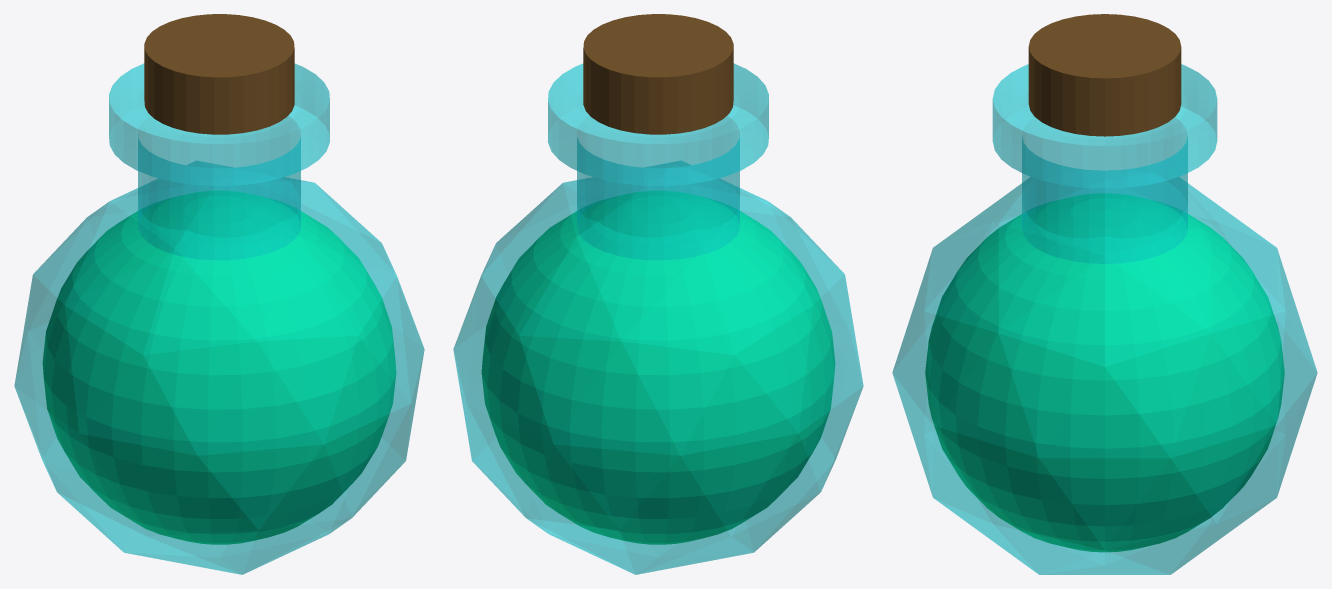
The model's file is FrascoHD.fbx.
The picture shows the model from 3 angles, left to right: view 1: azimuth 30°, elevation 25°; view 2: azimuth 150°, elevation 25°; view 3: azimuth 270°, elevation 25°; orthographic projection.
Parts seen in each view (by area): view 1: RecipienteRedondo; view 2: RecipienteRedondo; view 3: RecipienteRedondo.
Part boxes in pixels (x1,y1,x2,y2): RecipienteRedondo: (14,14,424,574); RecipienteRedondo: (453,14,863,574); RecipienteRedondo: (892,14,1317,574).
Size of the model in its own units: 190 by 269 by 200.
